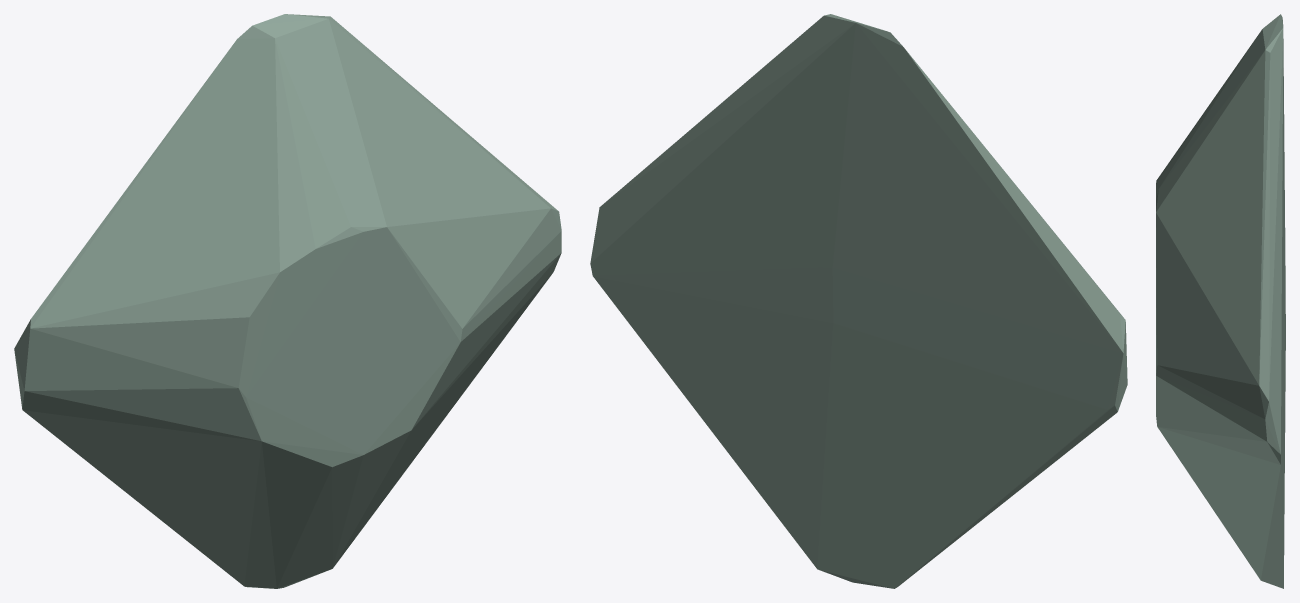
Rendered from lighting_taskLight_foldableCeiling_a01.glb.
3 views of the same model, side by side, from view 1: azimuth 30°, elevation 25°; view 2: azimuth 150°, elevation 25°; view 3: azimuth 270°, elevation 25° (orthographic). The views are drawn at different scales.
Parts seen in each view (by area): view 1: geometry_0; view 2: geometry_0; view 3: geometry_0.
Boxes of the visible parts, x1,y1,x2,y2 form: geometry_0: [14, 14, 561, 588]; geometry_0: [590, 14, 1127, 588]; geometry_0: [1156, 14, 1285, 588].
Bounding box in the file's own units: 0.4775 × 0.4795 × 0.1029.
